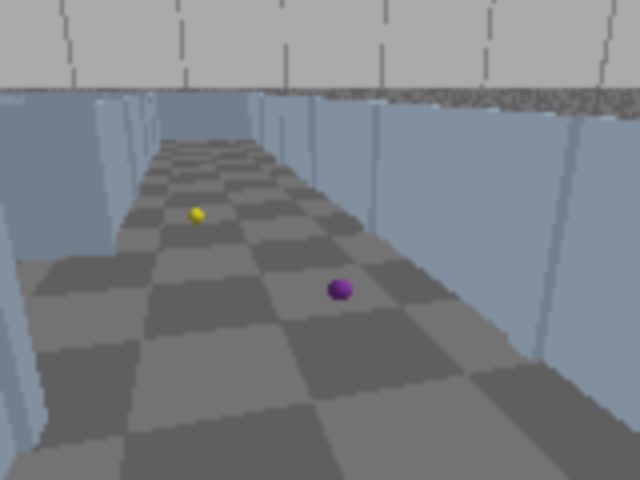puck: (324, 273, 358, 308), (186, 208, 206, 226)
